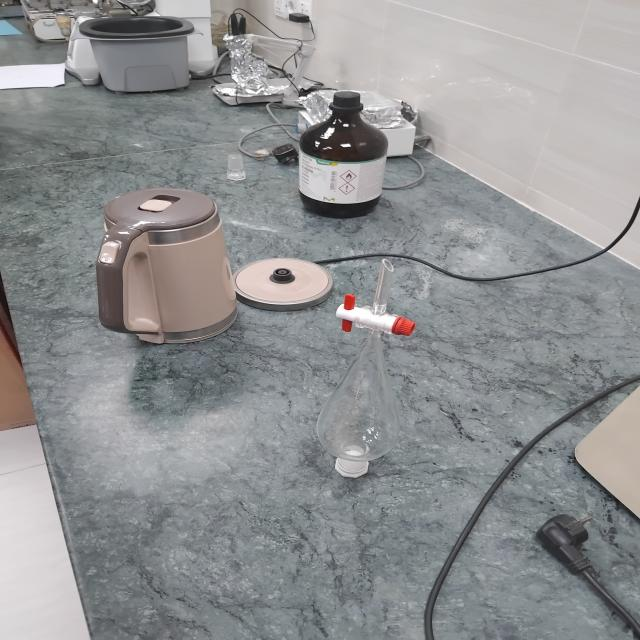Separating_Funnel: (300, 238, 446, 496)
